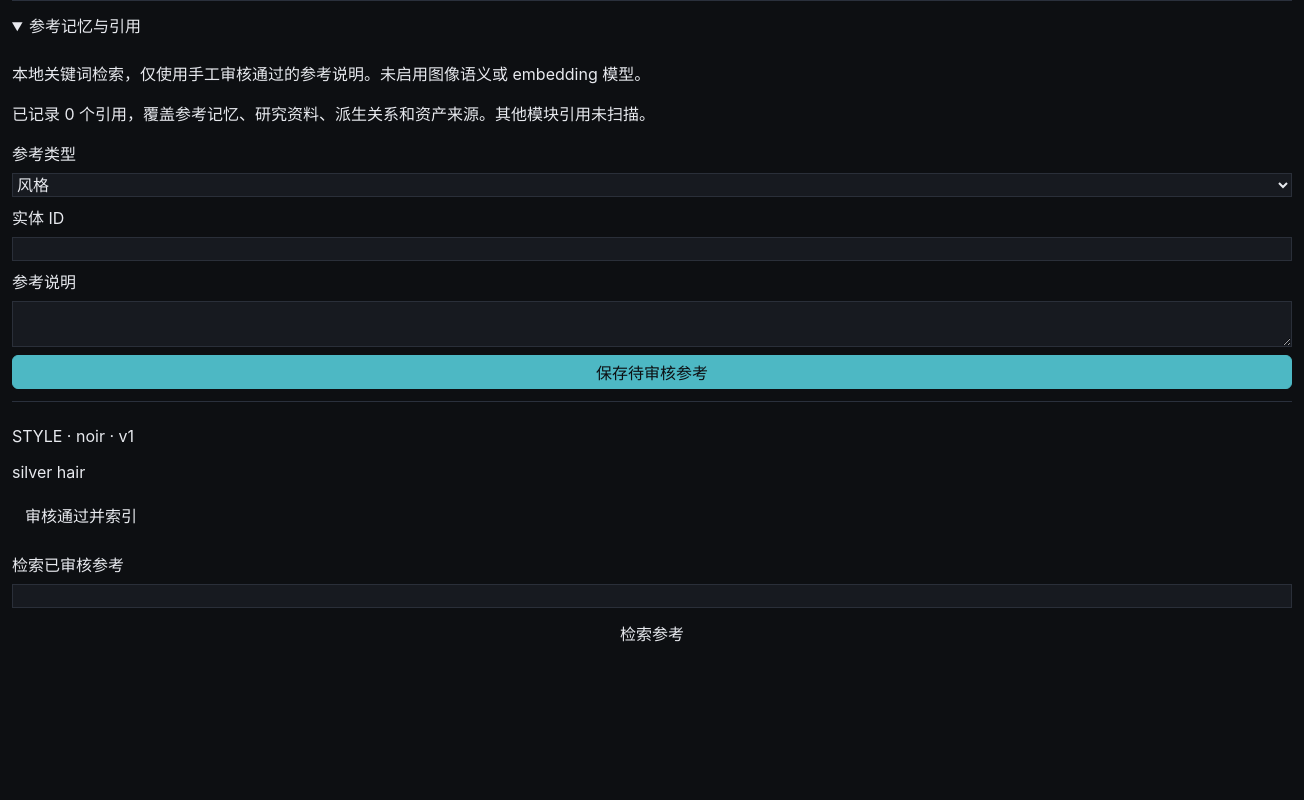
reports lexical provenance and damaged asset exclusion honestly
expect the text "silver hair" is shown: met, box [12,462,85,482]
In the field labelled "检索已审核参考": (652, 596) [12,584,1292,608], type "silver"
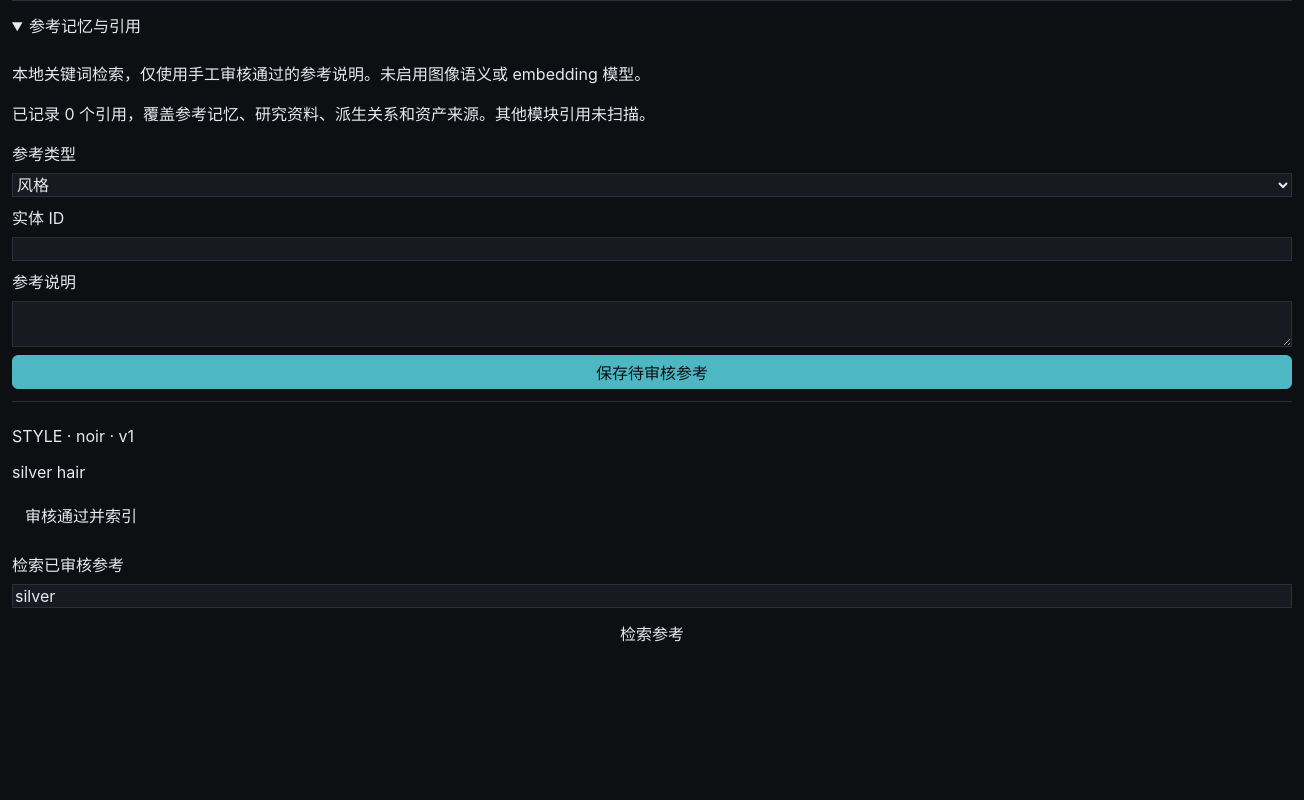
Click the button "检索参考": (652, 633) [12,616,1292,650]
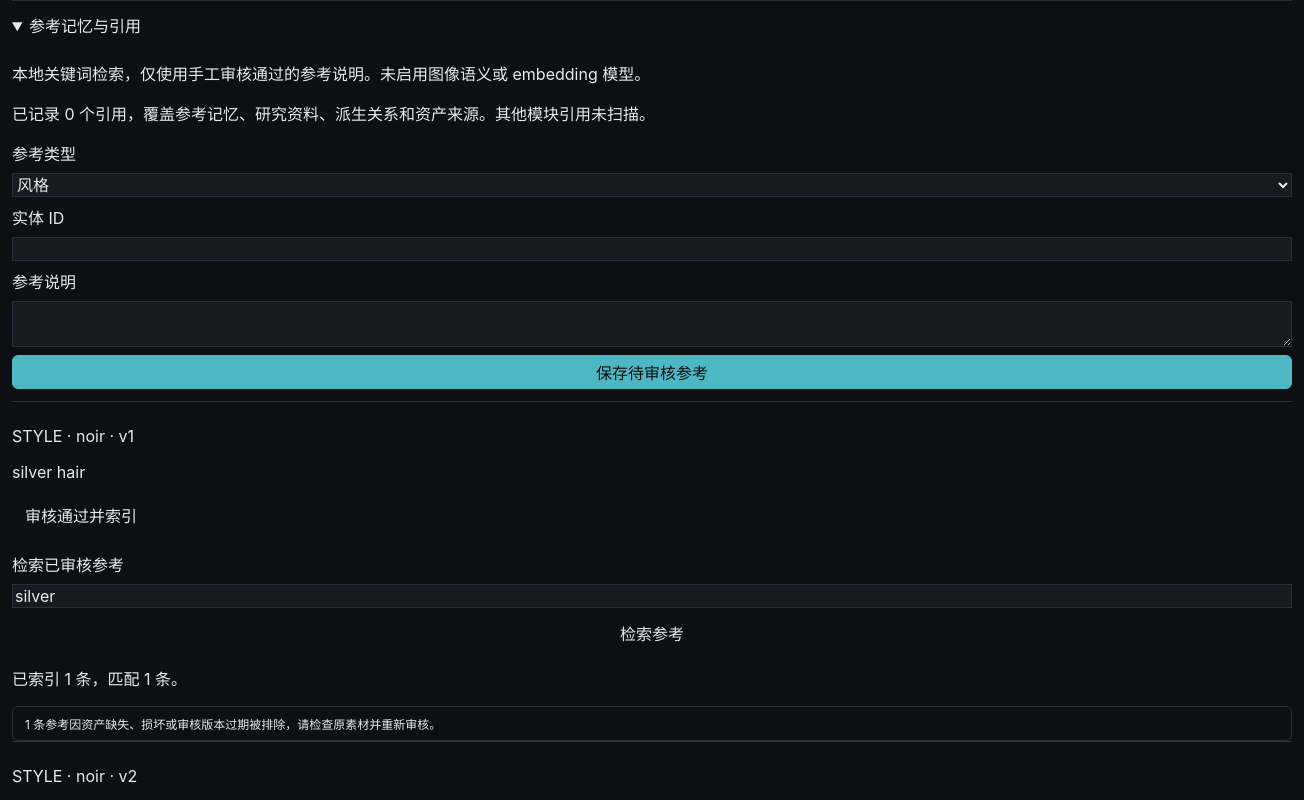
expect the text "已索引 1 条，匹配 1 条。" is shown: met, box [12,669,187,689]
expect the text "1 条参考因资产缺失、损坏或审核版本过期被排除，请检查原素材并重新审核。" is shown: met, box [12,706,1292,741]
